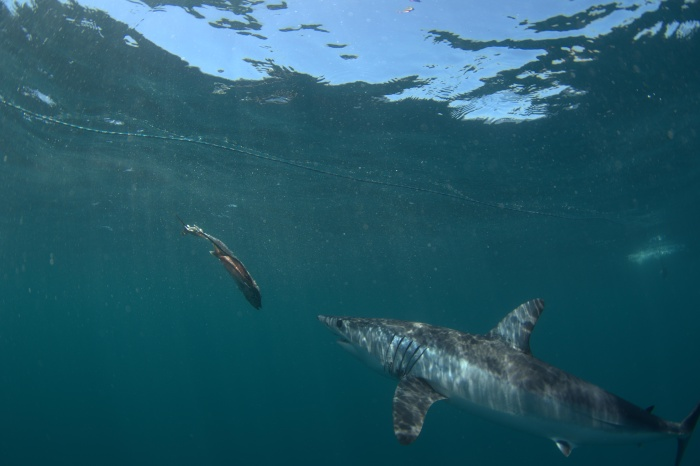Mako: (310, 290, 700, 462)
